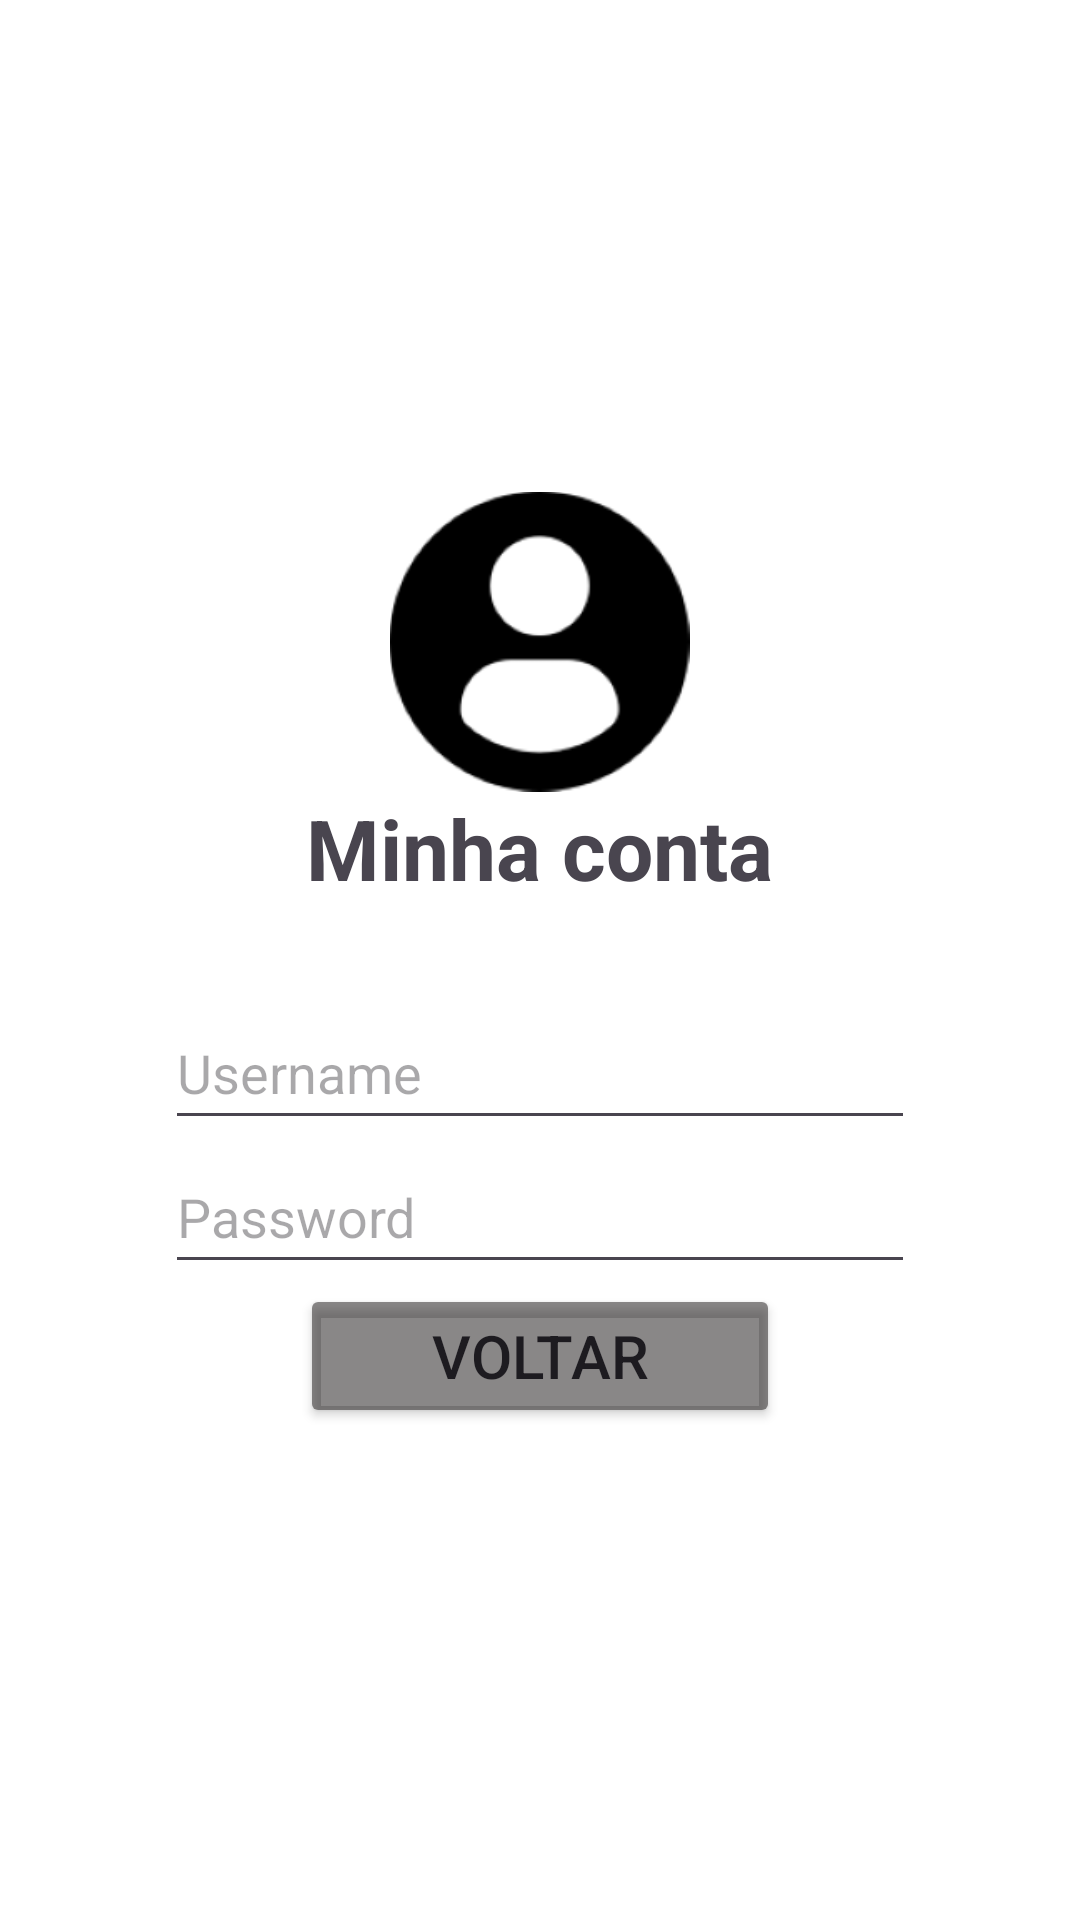

Screen size 1080 × 1920. Icon name, then its box in pixels as rect(x1, y1, x2, y2):
Imagem de perfil: rect(390, 492, 690, 792)
